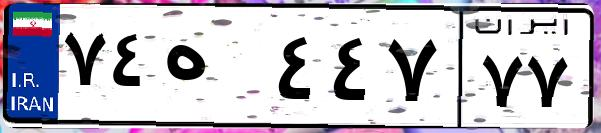4: (270, 28, 330, 110), (330, 28, 385, 110), (110, 28, 158, 98)
7: (385, 28, 445, 110), (57, 26, 110, 100), (475, 38, 525, 113), (525, 38, 570, 115)
ه: (158, 20, 270, 120)
